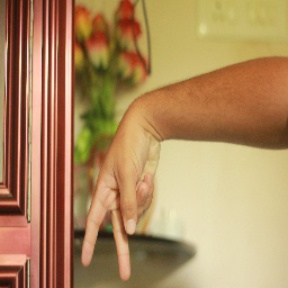Y: (80, 118, 162, 284)
